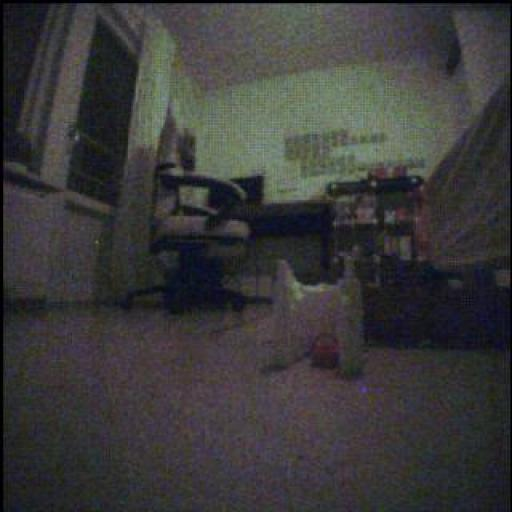basket: (313, 334, 340, 369), (395, 166, 409, 179)
